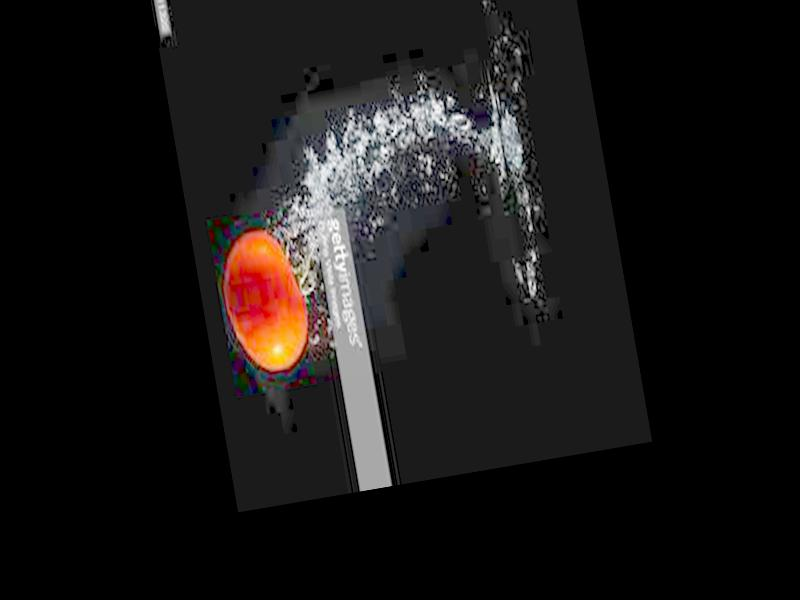Tomato: (217, 223, 315, 376)
